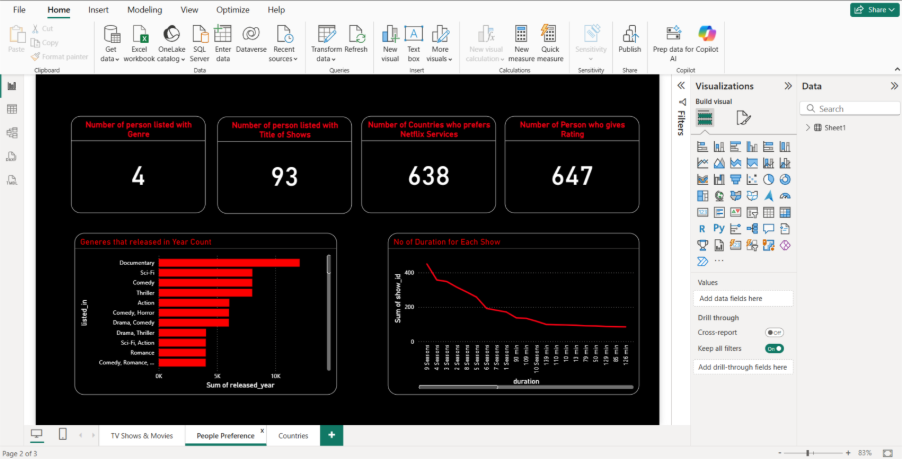

Layout of this report page (visuals, bound fields, positions):
{"tool":"powerbi","page":{"name":"People Preference","canvas":[1280,720],"ordinal":1},"visuals":[{"type":"barChart","title":"Generes that released in Year Count","fields":{"Y":["Sum(Sheet1.released_year)"],"Category":["Sheet1.listed_in"]},"box":[79.6,325.7,538.1,331.8],"z":0},{"type":"lineChart","title":"No of Duration for Each Show","fields":{"Category":["Sheet1.duration"],"Y":["Sum(Sheet1.show_id)"]},"box":[722.7,325.7,516.4,331.8],"z":1000},{"type":"kpi","title":"Number of Person who gives Rating","fields":{"Indicator":["Sum(Sheet1.show_id)"],"TrendLine":["Sheet1.rating"]},"box":[962.7,85.7,276.3,199.1],"z":2000},{"type":"kpi","title":"Number of person listed with Genre","fields":{"TrendLine":["Sheet1.listed_in"],"Indicator":["Sum(Sheet1.show_id)"]},"box":[72.4,85.7,276.3,199.1],"z":3000},{"type":"kpi","title":"Number of person listed with Title of Shows","fields":{"TrendLine":["Sheet1.title"],"Indicator":["Sum(Sheet1.show_id)"]},"box":[372.8,86.9,276.3,199.1],"z":4000},{"type":"kpi","title":"Number of Countries who prefers Netflix Services","fields":{"TrendLine":["Sheet1.country"],"Indicator":["Sum(Sheet1.show_id)"]},"box":[668.4,85.7,276.3,199.1],"z":5000}]}

Visuals, with their boxes on the page's 1280x720 design canvas (x1, y1, x2, y2). These are canvas units, not pixel positions in the 903x459 screenshot, which may show the page scaled, cropped or inside an application window:
"Generes that released in Year Count" barChart: BBox(80, 326, 618, 658)
"No of Duration for Each Show" lineChart: BBox(723, 326, 1239, 658)
"Number of Person who gives Rating" kpi: BBox(963, 86, 1239, 285)
"Number of person listed with Genre" kpi: BBox(72, 86, 349, 285)
"Number of person listed with Title of Shows" kpi: BBox(373, 87, 649, 286)
"Number of Countries who prefers Netflix Services" kpi: BBox(668, 86, 945, 285)
